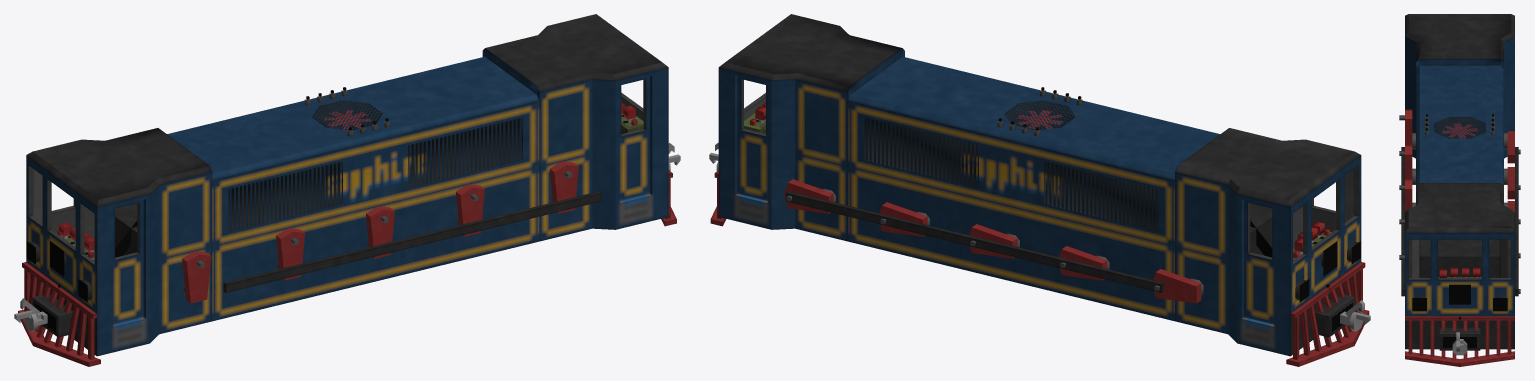
File: sur_d2.obj
The picture shows the model from 3 angles, left to right: view 1: azimuth 30°, elevation 25°; view 2: azimuth 150°, elevation 25°; view 3: azimuth 270°, elevation 25°; orthographic projection. The views are drawn at different scales.
Parts seen in each view (by area): view 1: FRAME, FRAME.002, FRAME.004, FRAME.005, FRAME.006, FRAME.001, FRAME.003, SIDE_ROD_LEFT, COUPLER_ENGAGED_FRONT_1_TOGGLE_LABEL_Uncouple, FRAME_INTERIOR, DOOR_3_EXTERNAL_TOGGLE_CG_driverdoorrearright, DOOR_2_EXTERNAL_TOGGLE_CG_driverdoorfrontleft (+7 smaller); view 2: FRAME, FRAME.002, FRAME.004, FRAME.005, FRAME.006, FRAME.001, FRAME.003, COUPLER_ENGAGED_FRONT_1_TOGGLE_LABEL_Uncouple, SIDE_ROD_RIGHT, FRAME_INTERIOR, DOOR_1_EXTERNAL_TOGGLE_CG_driverdoorfrontright, DOOR_4_EXTERNAL_TOGGLE_CG_driverdoorrearleft (+7 smaller); view 3: FRAME, FRAME.004, FRAME.006, FRAME.005, COUPLER_ENGAGED_REAR_2_TOGGLE_LABEL_Uncouple, FRAME_INTERIOR.004, FRAME.002, FRAME.007, WHEEL_DRIVER_5, WHEEL_DRIVER_2, FRAME.008, SIDE_ROD_RIGHT (+9 smaller).
Part boxes in pixels (bbox=[...]): FRAME: bbox=[167, 56, 539, 321]; FRAME.002: bbox=[26, 155, 212, 356]; FRAME.004: bbox=[482, 48, 668, 241]; FRAME.005: bbox=[26, 128, 212, 206]; FRAME.006: bbox=[485, 14, 668, 91]; FRAME.001: bbox=[228, 117, 522, 231]; FRAME.003: bbox=[229, 117, 521, 231]; SIDE_ROD_LEFT: bbox=[223, 191, 601, 292]; COUPLER_ENGAGED_FRONT_1_TOGGLE_LABEL_Uncouple: bbox=[18, 262, 100, 366]; FRAME_INTERIOR: bbox=[28, 166, 137, 264]; DOOR_3_EXTERNAL_TOGGLE_CG_driverdoorrearright: bbox=[619, 76, 649, 200]; DOOR_2_EXTERNAL_TOGGLE_CG_driverdoorfrontleft: bbox=[113, 200, 143, 324]; FRAME: bbox=[848, 56, 1220, 321]; FRAME.002: bbox=[1175, 155, 1361, 356]; FRAME.004: bbox=[718, 48, 904, 241]; FRAME.005: bbox=[1175, 128, 1360, 206]; FRAME.006: bbox=[719, 14, 901, 91]; FRAME.001: bbox=[864, 117, 1158, 231]; FRAME.003: bbox=[865, 118, 1157, 231]; COUPLER_ENGAGED_FRONT_1_TOGGLE_LABEL_Uncouple: bbox=[1286, 262, 1369, 366]; SIDE_ROD_RIGHT: bbox=[785, 191, 1163, 292]; FRAME_INTERIOR: bbox=[1250, 165, 1358, 264]; DOOR_1_EXTERNAL_TOGGLE_CG_driverdoorfrontright: bbox=[1244, 200, 1274, 324]; DOOR_4_EXTERNAL_TOGGLE_CG_driverdoorrearleft: bbox=[737, 76, 767, 200]; FRAME: bbox=[1416, 65, 1503, 185]; FRAME.004: bbox=[1405, 233, 1514, 349]; FRAME.006: bbox=[1405, 183, 1514, 232]; FRAME.005: bbox=[1405, 14, 1514, 61]; COUPLER_ENGAGED_REAR_2_TOGGLE_LABEL_Uncouple: bbox=[1405, 316, 1514, 366]; FRAME_INTERIOR.004: bbox=[1408, 239, 1511, 279]; FRAME.002: bbox=[1405, 36, 1514, 158]; FRAME.007: bbox=[1434, 117, 1485, 138]; WHEEL_DRIVER_5: bbox=[1399, 109, 1520, 163]; WHEEL_DRIVER_2: bbox=[1399, 145, 1520, 199]; FRAME.008: bbox=[1434, 117, 1485, 138]; SIDE_ROD_RIGHT: bbox=[1515, 147, 1518, 296].
Bounding box in the file's own units: 10.12 × 2.5 × 2.06.
9 materials, 9 textured.
